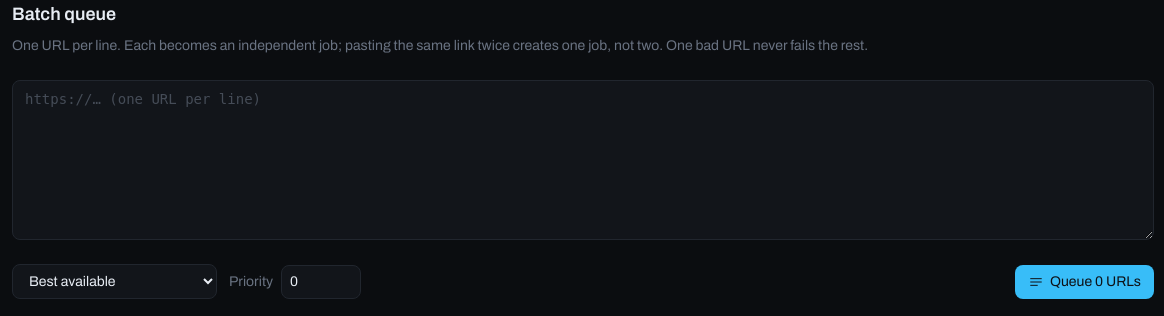
Batch screen › uses the singular when there is exactly one url
The width and height of the screenshot is (1164, 316).
Type "https://example.com/1" into the text box with placeholder "https://… (one URL per line)".
click(583, 160); type("https://example.com/1")  # box [12,80,1154,240]
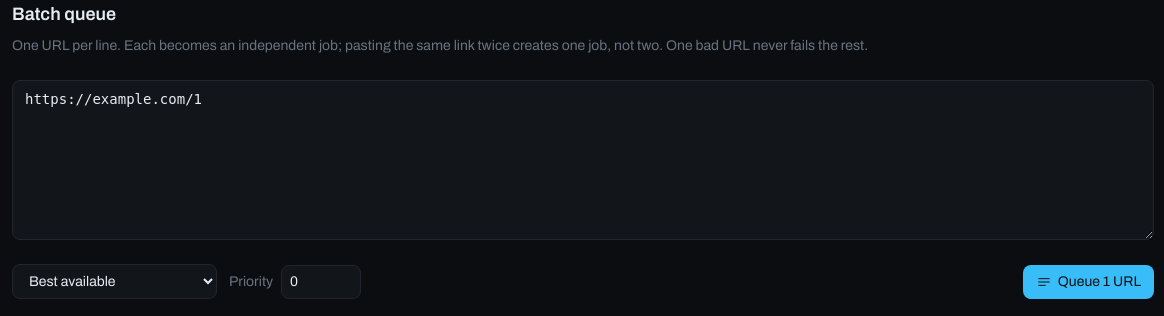
Expected: the button "Queue 1 URL" is shown, [1023,264,1154,298]
